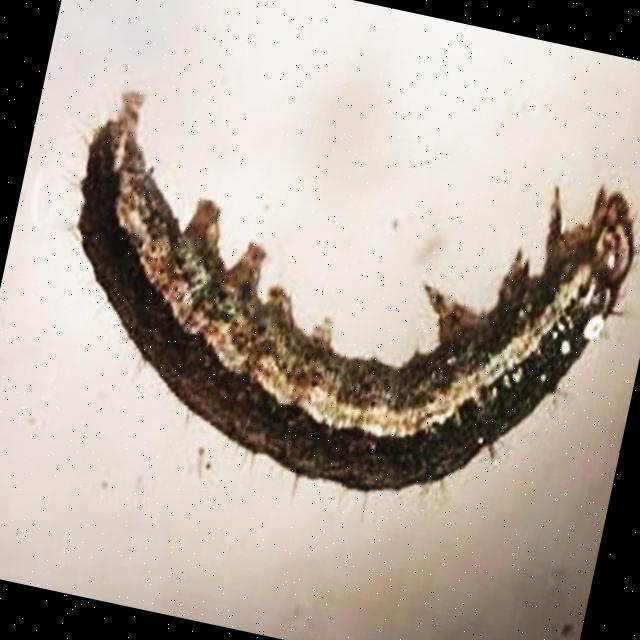worm: (24, 78, 640, 542)
